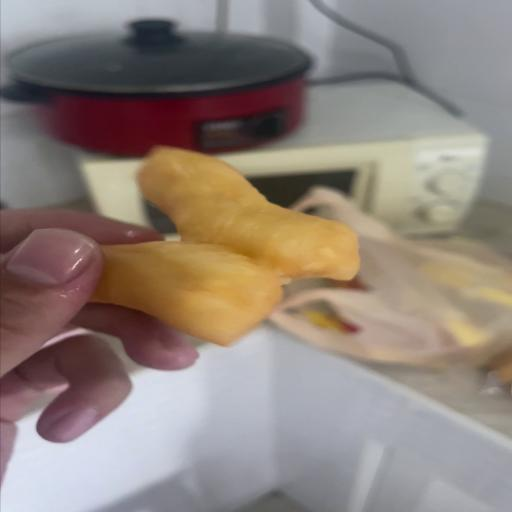street_golden_defect: (92, 149, 358, 350)
